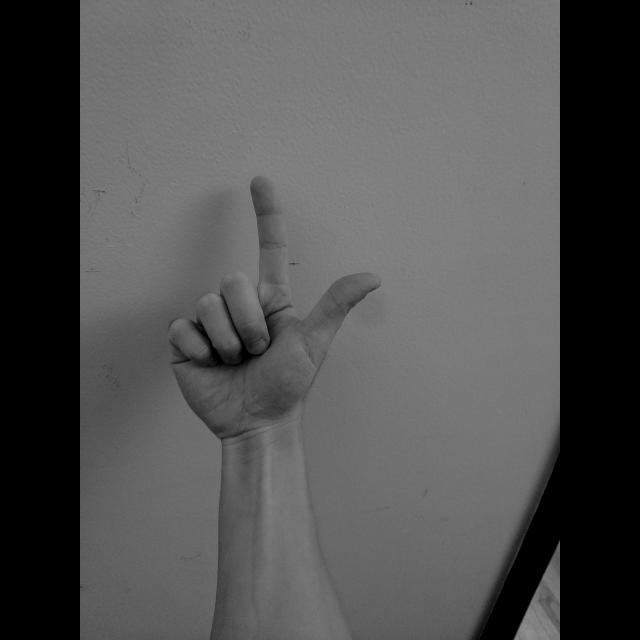L: (162, 170, 386, 450)
